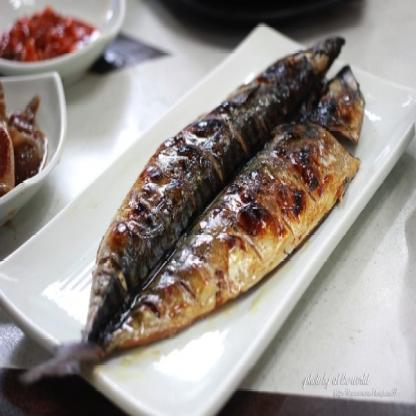Peixe: (1, 30, 370, 403)
